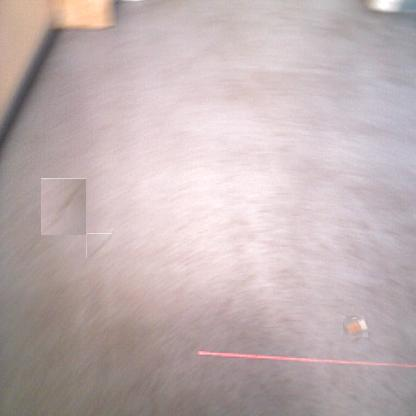dirty: (344, 318, 366, 340)
mark: (41, 178, 86, 235), (86, 233, 112, 258)
